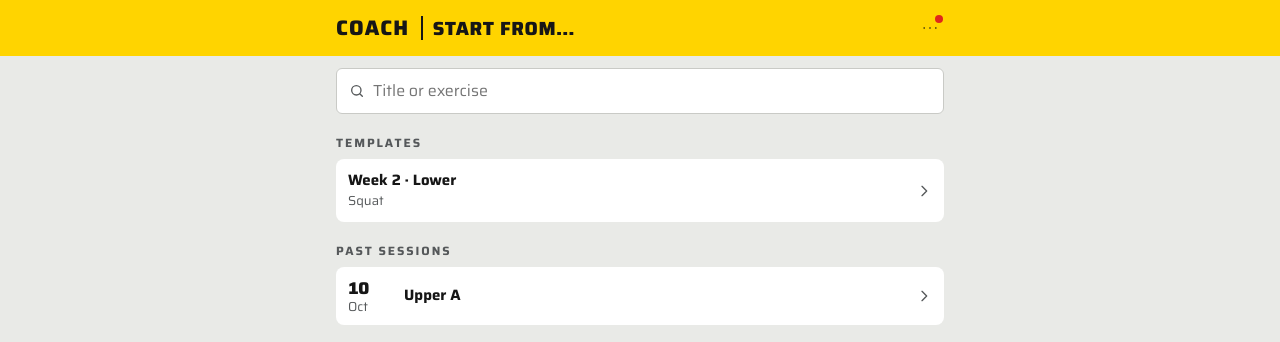
StartFromView › says no past sessions match when only templates do
The width and height of the screenshot is (1280, 342).
Type "squat" into the search field with placeholder "Title or exercise".
click(652, 91); type("squat")  # box [373,69,931,113]
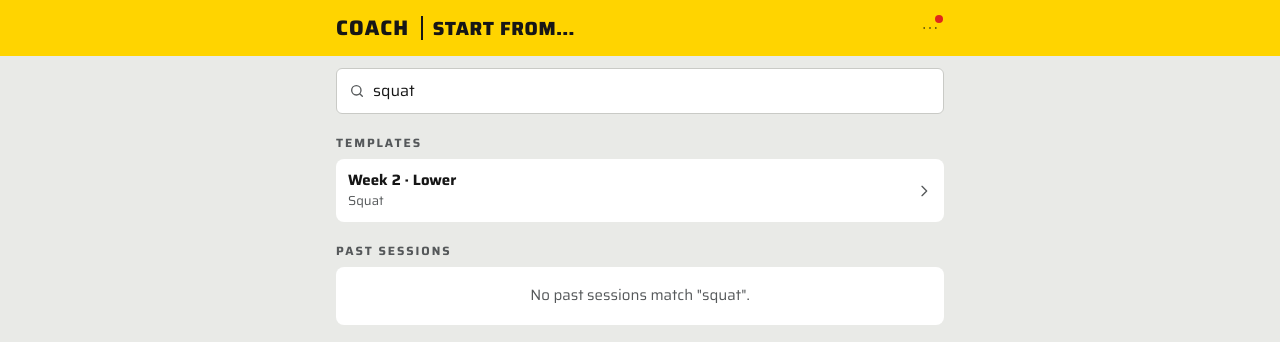
Expected: the text with class "empty" reads "No past sessions match \"squat\".", [530,283,750,307]
